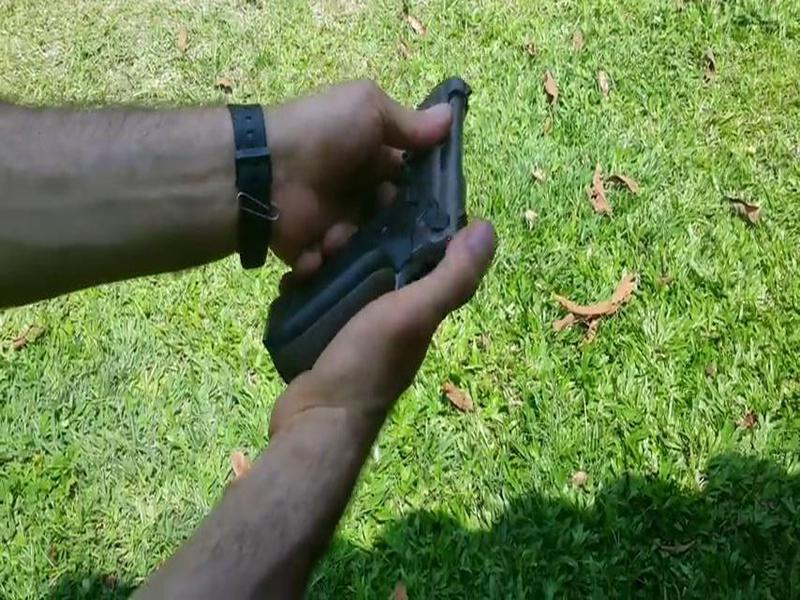Pistola: (269, 73, 482, 384)
